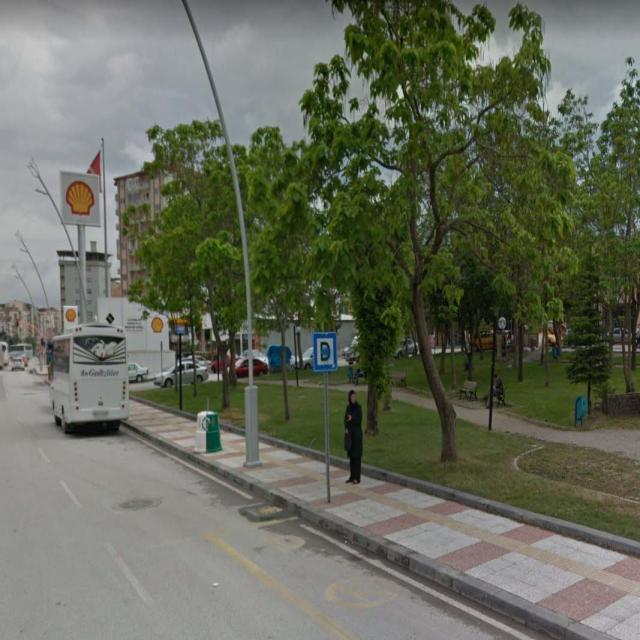durak: (314, 332, 336, 372)
